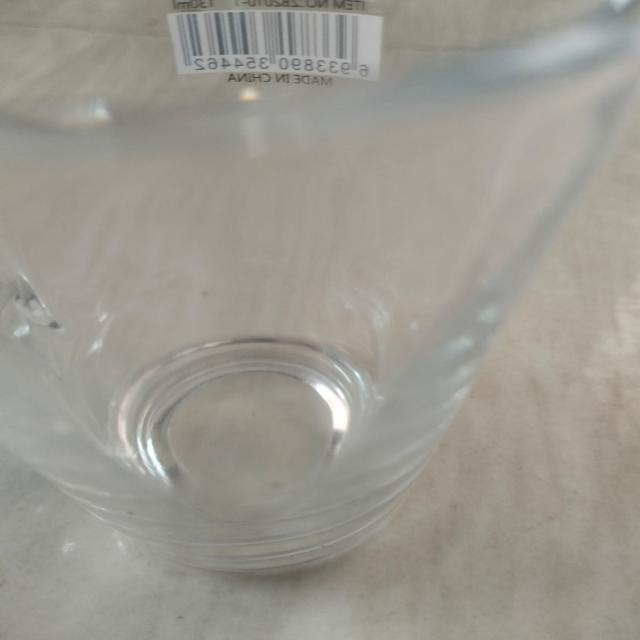glass-VX4N: (3, 2, 640, 572)
